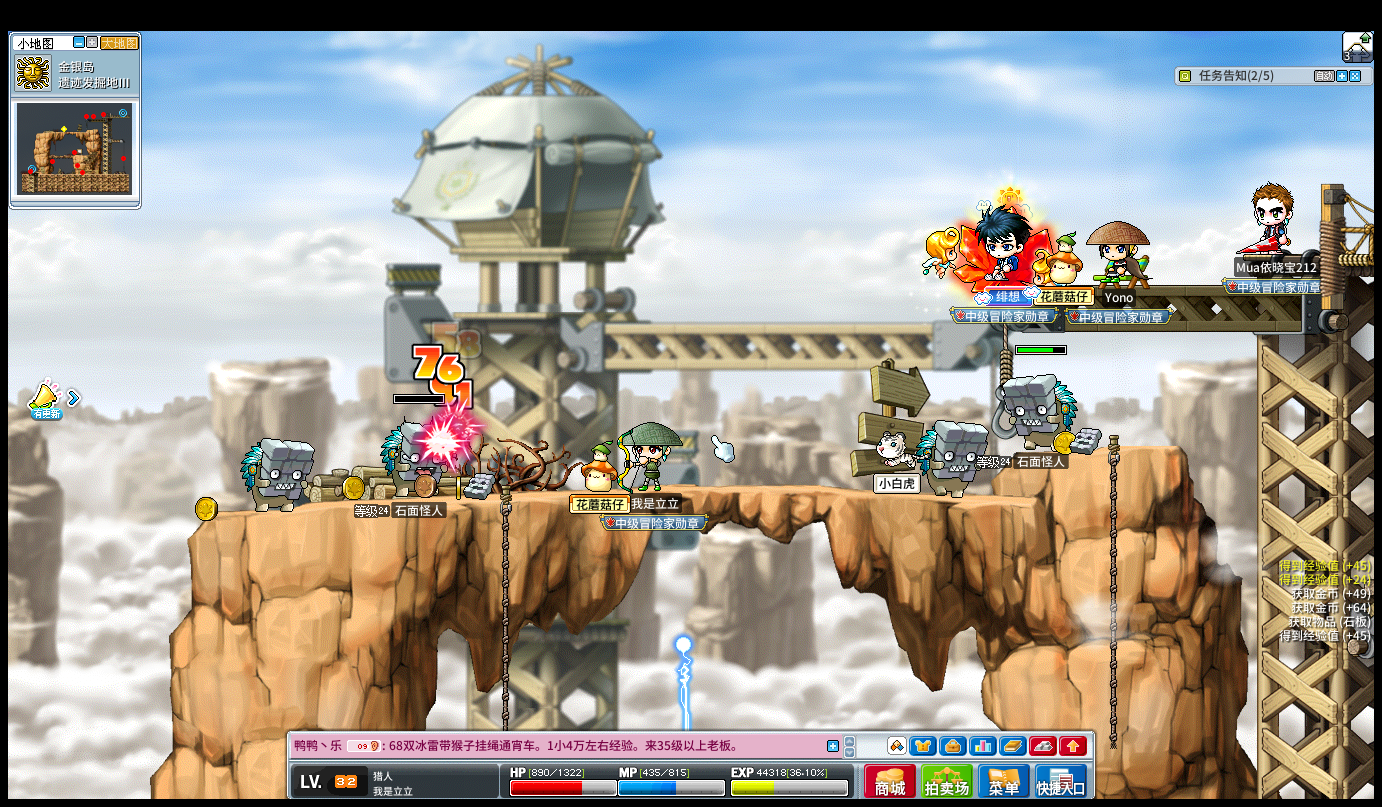floor: (210, 481, 1088, 503)
monster: (999, 372, 1078, 461), (239, 437, 315, 513), (917, 419, 988, 498), (379, 422, 426, 498)
rope: (1105, 434, 1121, 792), (498, 485, 510, 680)
